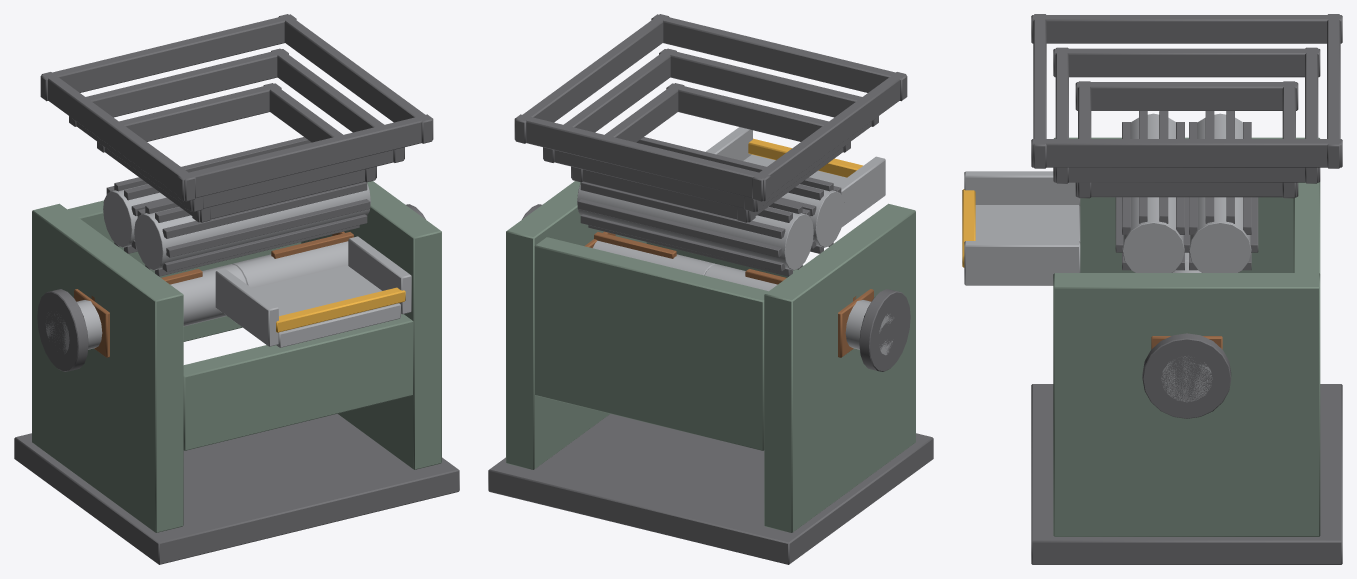
The model's file is feCrusher.fbx.
3 renders of one model, left to right at view 1: azimuth 30°, elevation 25°; view 2: azimuth 150°, elevation 25°; view 3: azimuth 270°, elevation 25°, orthographic. The views are drawn at different scales.
Parts seen in each view (by area): view 1: feCrusher_Base, FeSpin_x2_Rev_RollB, FeSpin_DriveShaft, FeSpin_x2_RollA; view 2: feCrusher_Base, FeSpin_x2_RollA, FeSpin_DriveShaft, FeSpin_x2_Rev_RollB; view 3: feCrusher_Base, FeSpin_x2_Rev_RollB, FeSpin_x2_RollA, FeSpin_DriveShaft.
Boxes of the visible parts, left/top/right/bottom form: feCrusher_Base: left=14, top=14, right=459, bottom=564; FeSpin_x2_Rev_RollB: left=134, top=182, right=370, bottom=276; FeSpin_DriveShaft: left=37, top=204, right=425, bottom=371; FeSpin_x2_RollA: left=103, top=137, right=311, bottom=253; feCrusher_Base: left=488, top=14, right=933, bottom=564; FeSpin_x2_RollA: left=577, top=182, right=813, bottom=276; FeSpin_DriveShaft: left=522, top=204, right=910, bottom=371; FeSpin_x2_Rev_RollB: left=636, top=137, right=844, bottom=253; feCrusher_Base: left=962, top=14, right=1342, bottom=564; FeSpin_x2_Rev_RollB: left=1115, top=111, right=1189, bottom=272; FeSpin_x2_RollA: left=1184, top=111, right=1258, bottom=272; FeSpin_DriveShaft: left=1142, top=252, right=1231, bottom=418.
Bounding box in the file's own units: 1 × 1.01 × 0.855.
